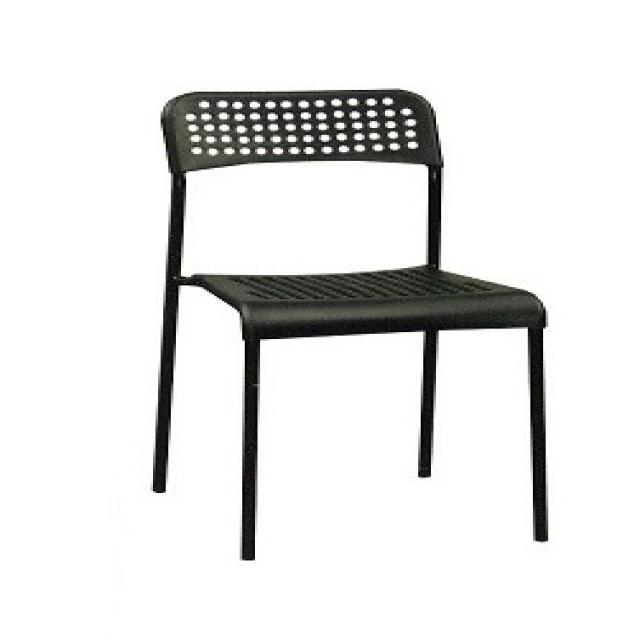chair: (147, 83, 558, 564)
